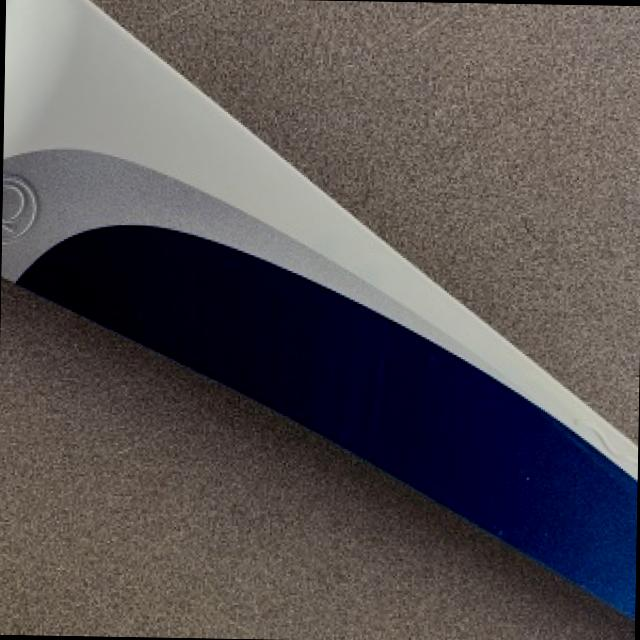healthy: (0, 280, 635, 640)
